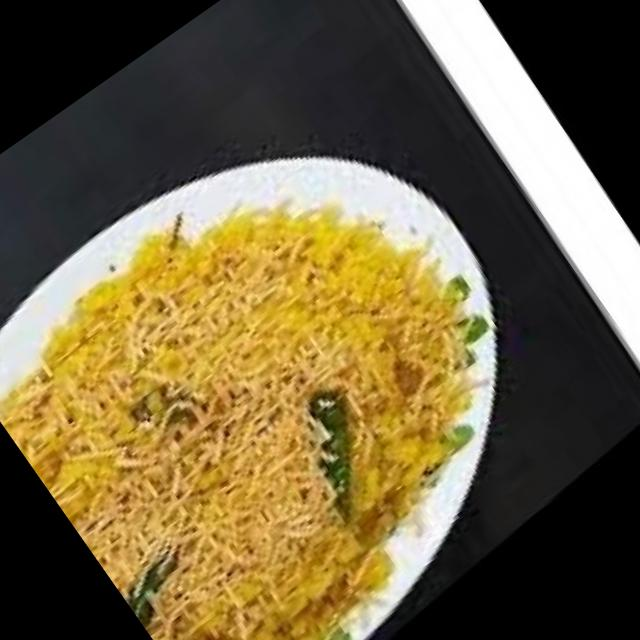poha: (0, 86, 607, 640)
